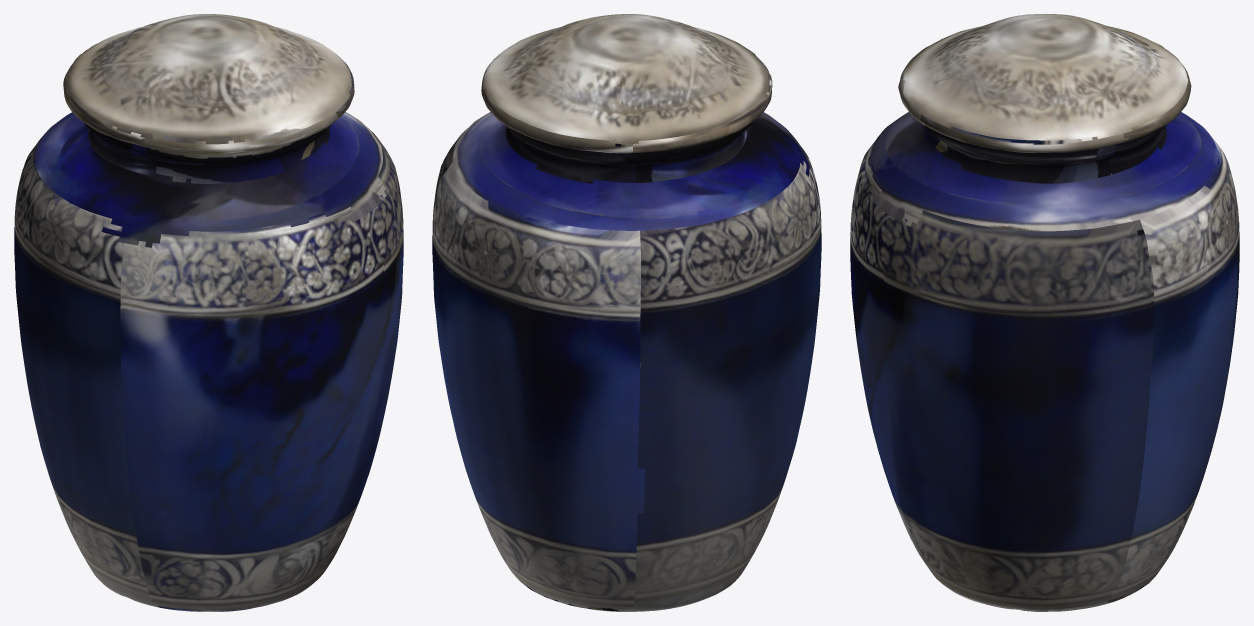
Rendered from Serene_Container_1125085255.obj.
The picture shows the model from 3 angles, left to right: view 1: azimuth 30°, elevation 25°; view 2: azimuth 150°, elevation 25°; view 3: azimuth 270°, elevation 25°; orthographic projection.
Parts seen in each view (by area): view 1: Serene_Container_1125085255; view 2: Serene_Container_1125085255; view 3: Serene_Container_1125085255.
Part boxes in pixels (x1,y1,x2,y2): Serene_Container_1125085255: (14,14,403,611); Serene_Container_1125085255: (432,14,821,611); Serene_Container_1125085255: (850,14,1239,611).
Size of the model in its own units: 1.33 by 2 by 1.33.
